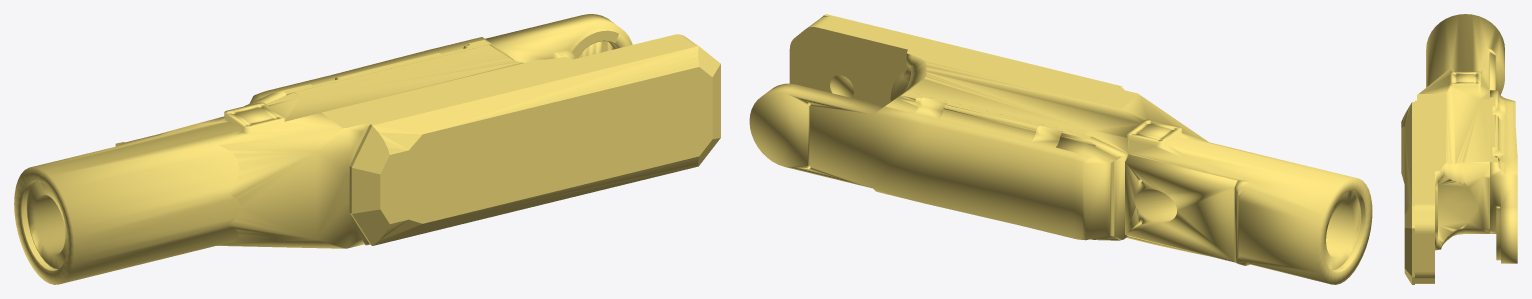
The picture shows the model from 3 angles, left to right: view 1: azimuth 30°, elevation 25°; view 2: azimuth 150°, elevation 25°; view 3: azimuth 270°, elevation 25°; orthographic projection. The views are drawn at different scales.
Visible parts, largest first — view 1: Node_0x7fd4b7a99030.001, Node_0x7fd4b7a99030; view 2: Node_0x7fd4b7a99030.001, Node_0x7fd4b7a99030; view 3: Node_0x7fd4b7a99030.001, Node_0x7fd4b7a99030.
Part boxes in pixels (bbox=[...]): Node_0x7fd4b7a99030.001: bbox=[14, 34, 720, 284]; Node_0x7fd4b7a99030: bbox=[244, 14, 632, 106]; Node_0x7fd4b7a99030.001: bbox=[789, 14, 1372, 284]; Node_0x7fd4b7a99030: bbox=[749, 83, 1127, 240]; Node_0x7fd4b7a99030.001: bbox=[1401, 14, 1504, 284]; Node_0x7fd4b7a99030: bbox=[1490, 90, 1517, 263].
Bounding box in the file's own units: 0.7174 × 0.1738 × 0.13.
